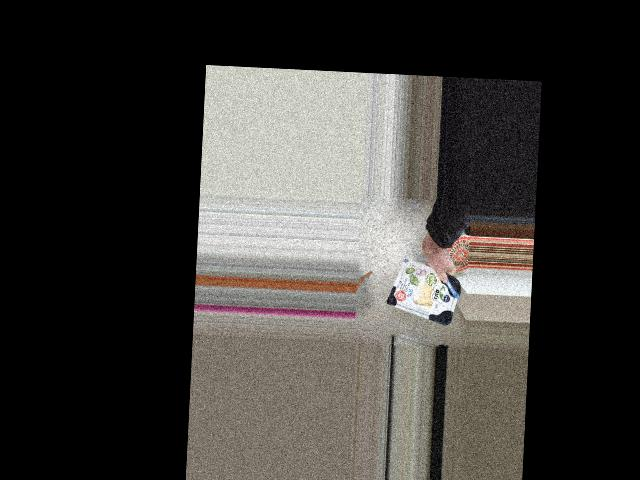cheese: (385, 259, 463, 326)
